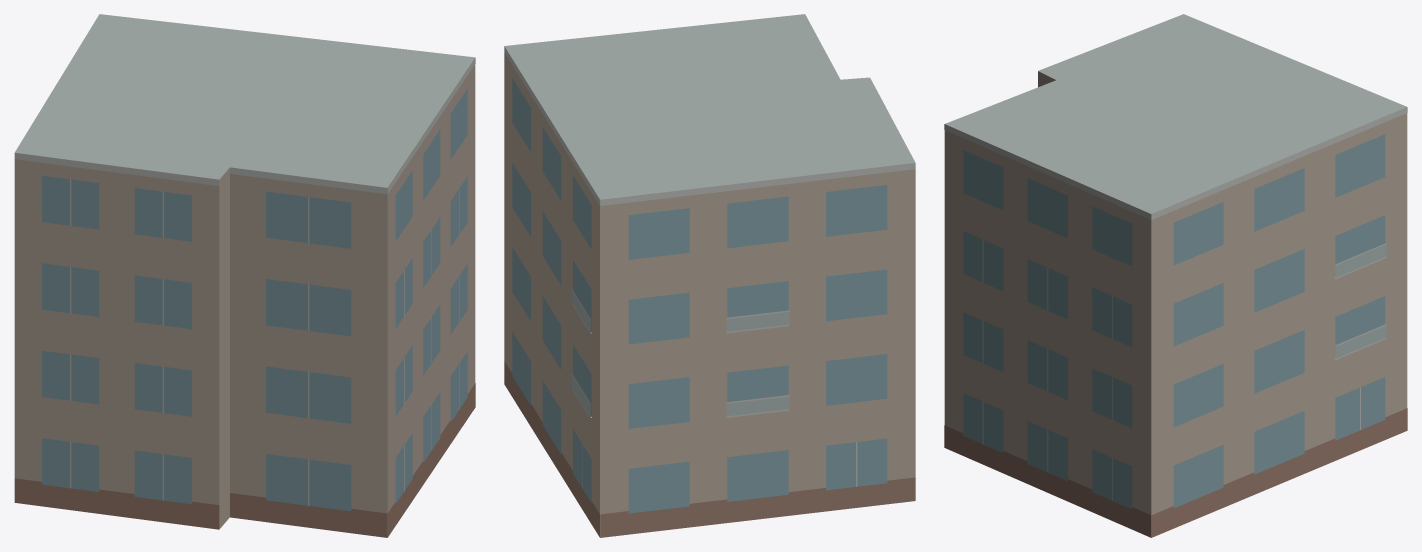
The model's file is survey-upis-32621642.glb.
3 views of the same model, side by side, from view 1: azimuth 30°, elevation 25°; view 2: azimuth 150°, elevation 25°; view 3: azimuth 270°, elevation 25° (orthographic). The views are drawn at different scales.
Visible parts, largest first — view 1: survey-upis-32621642.tmp; view 2: survey-upis-32621642.tmp; view 3: survey-upis-32621642.tmp.
Part boxes in pixels (x1,y1,x2,y2): survey-upis-32621642.tmp: (14,14,475,537); survey-upis-32621642.tmp: (504,14,915,537); survey-upis-32621642.tmp: (944,14,1407,537).
Size of the model in its own units: 17.51 by 13.2 by 17.11.
